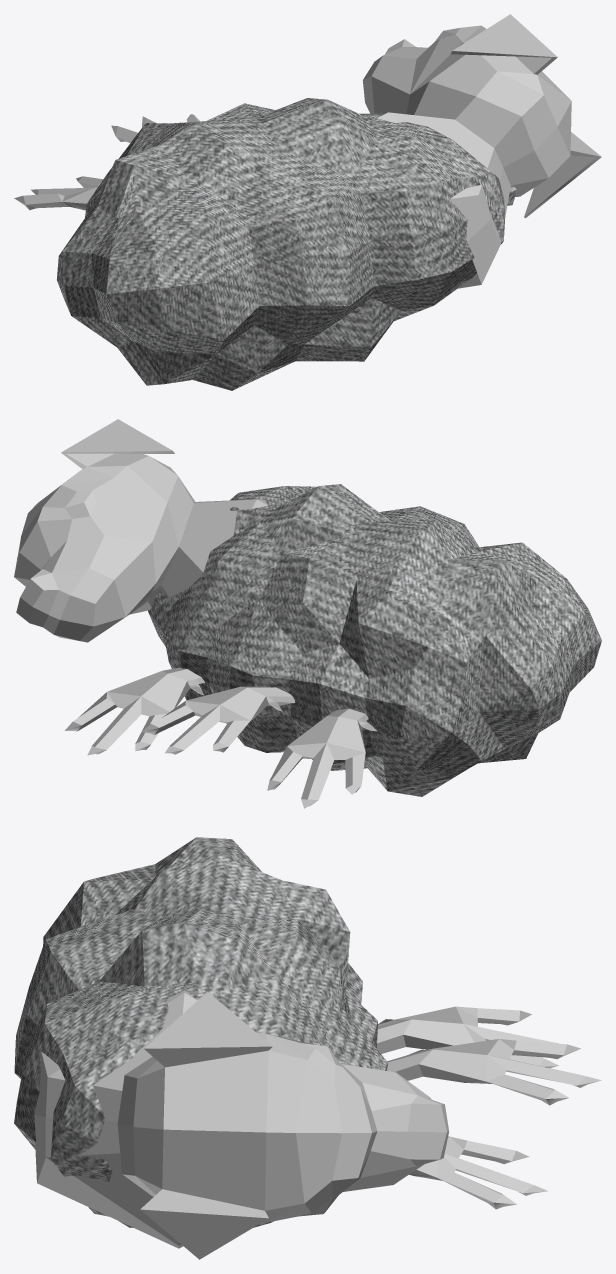
File: amalgam1.fbx
3 renders of one model, top to bottom at view 1: azimuth 30°, elevation 25°; view 2: azimuth 150°, elevation 25°; view 3: azimuth 270°, elevation 25°, orthographic. The views are drawn at different scales.
Parts seen in each view (by area): view 1: sheep001, dog001, chickenlittle002; view 2: sheep001, dog001, chickenlittle002, chickenlittle, chickenlittle001; view 3: dog001, sheep001, chickenlittle001, chickenlittle002, chickenlittle.
Boxes of the visible parts, x1=… form: sheep001: x1=57, y1=98, x2=516, y2=390; dog001: x1=362, y1=14, x2=601, y2=288; chickenlittle002: x1=14, y1=176, x2=102, y2=210; sheep001: x1=148, y1=484, x2=601, y2=796; dog001: x1=14, y1=419, x2=268, y2=642; chickenlittle002: x1=267, y1=708, x2=377, y2=808; chickenlittle: x1=65, y1=667, x2=204, y2=755; chickenlittle001: x1=142, y1=686, x2=294, y2=754; dog001: x1=34, y1=990, x2=449, y2=1259; sheep001: x1=14, y1=837, x2=387, y2=1227; chickenlittle001: x1=387, y1=1039, x2=601, y2=1105; chickenlittle002: x1=376, y1=1006, x2=558, y2=1068; chickenlittle: x1=409, y1=1136, x2=548, y2=1209.
Size of the model in its own units: 139 by 69.05 by 111.
